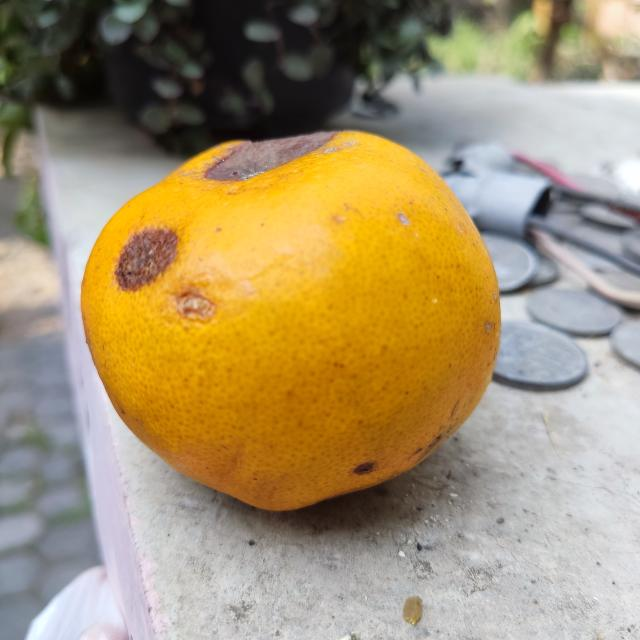orange: (79, 129, 504, 512)
